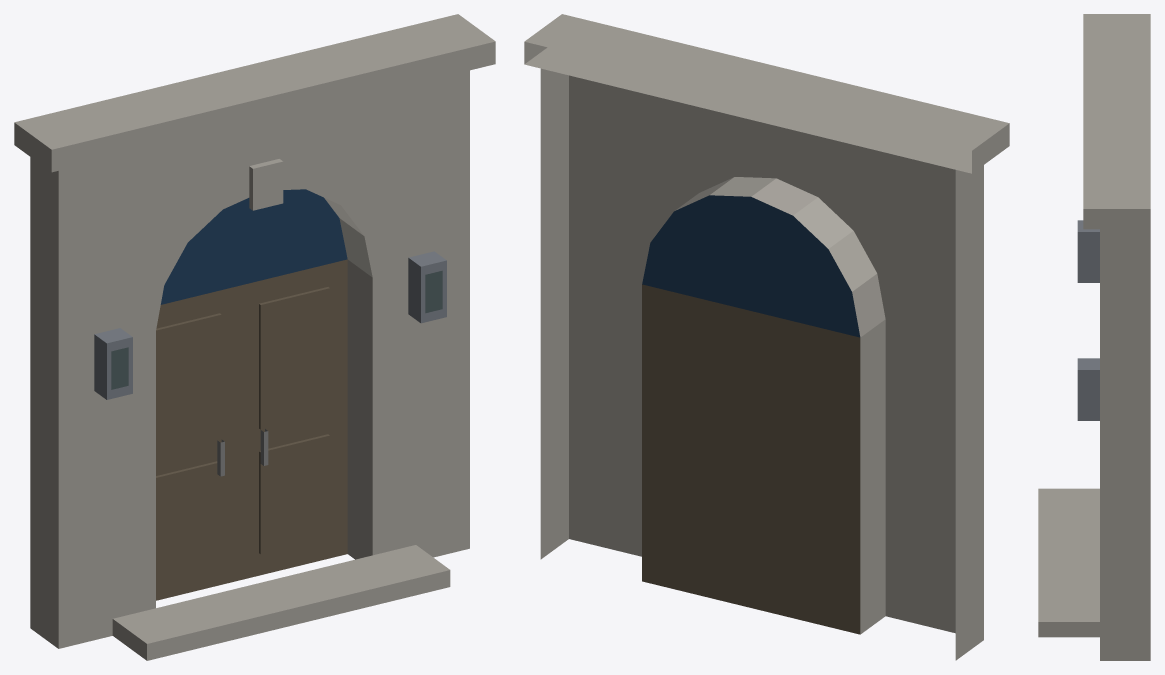
Rendered from entrance_close.fbx.
3 views of the same model, side by side, from view 1: azimuth 30°, elevation 25°; view 2: azimuth 150°, elevation 25°; view 3: azimuth 270°, elevation 25° (orthographic). The views are drawn at different scales.
Visible parts, largest first — view 1: a2012/600/entrance_close; view 2: a2012/600/entrance_close; view 3: a2012/600/entrance_close.
Part boxes in pixels (bbox=[...]): a2012/600/entrance_close: bbox=[14, 14, 495, 660]; a2012/600/entrance_close: bbox=[524, 14, 1009, 660]; a2012/600/entrance_close: bbox=[1038, 14, 1150, 660].
Bounding box in the file's own units: 4.1 × 4.5 × 1.
